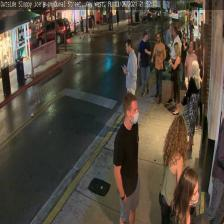person: (113, 91, 140, 224), (158, 114, 188, 223), (180, 60, 200, 147), (168, 167, 199, 223), (121, 39, 137, 118), (151, 32, 166, 102), (137, 30, 151, 95), (184, 42, 197, 112), (168, 41, 180, 114)
